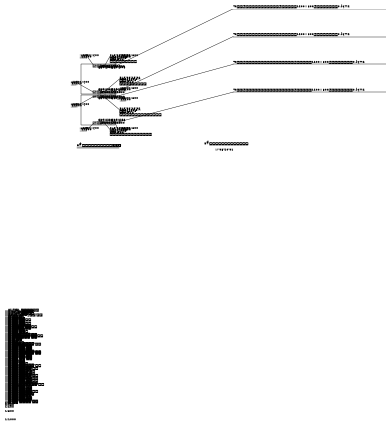room: (78, 334, 113, 367), (78, 300, 113, 333)
wall: (114, 364, 234, 426), (114, 336, 234, 396), (114, 331, 234, 366), (114, 303, 234, 336)
